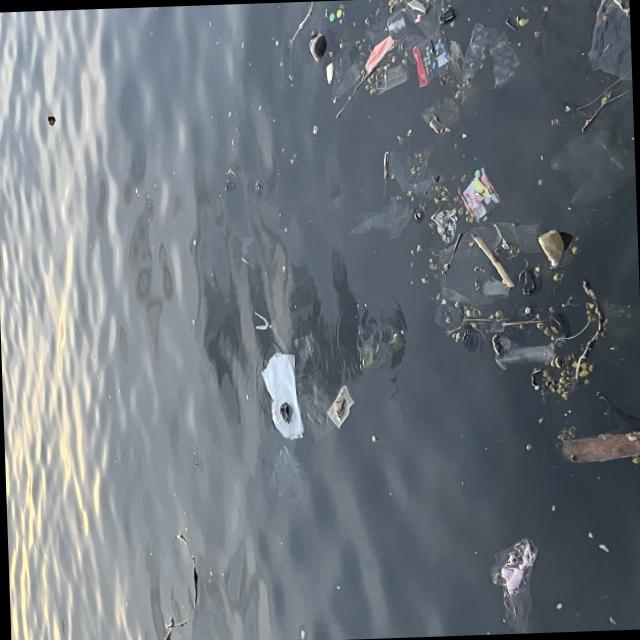foam: (324, 62, 333, 82)
plastic bottle: (550, 125, 634, 206), (436, 225, 507, 302), (490, 534, 542, 634), (456, 18, 520, 90), (586, 0, 632, 82), (258, 353, 300, 440), (388, 138, 443, 198), (343, 196, 408, 238), (331, 38, 374, 97), (356, 320, 407, 368), (459, 166, 499, 220), (411, 31, 449, 85), (268, 444, 304, 497), (494, 340, 553, 370), (489, 219, 538, 251), (539, 228, 576, 268), (422, 94, 458, 131), (406, 0, 443, 36), (326, 384, 354, 426), (374, 64, 409, 93), (362, 7, 388, 42), (434, 302, 466, 330), (431, 206, 455, 242), (252, 308, 273, 328), (386, 16, 406, 30)
unknow: (362, 34, 395, 70), (438, 6, 456, 24)
